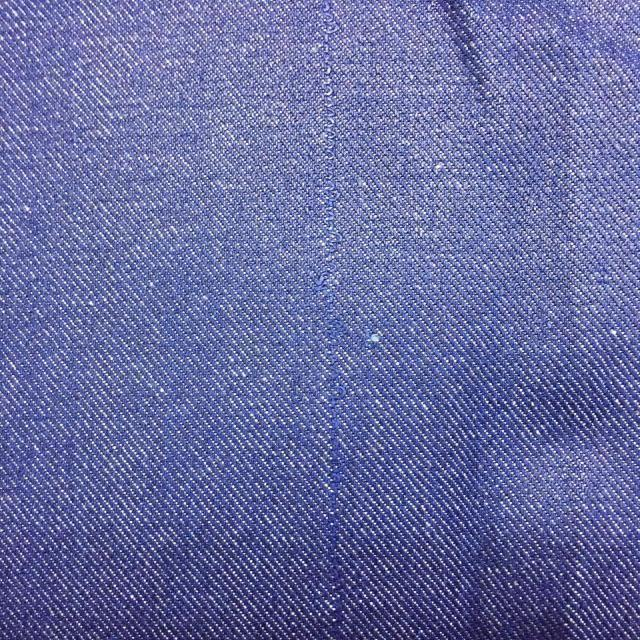Line: (320, 0, 347, 640)
